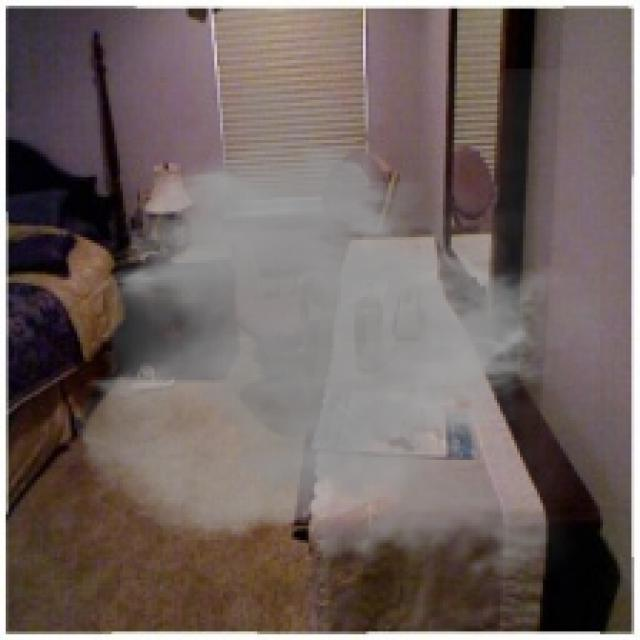smoke: (69, 69, 600, 597)
